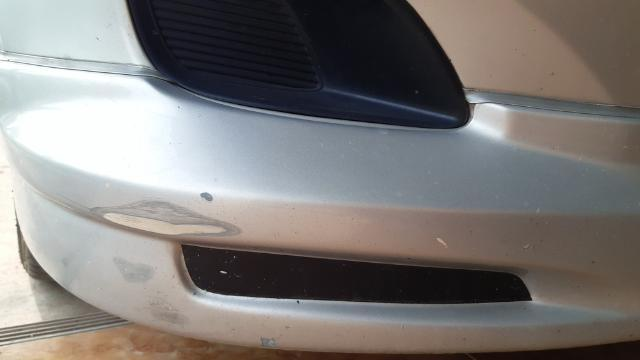scratch: (84, 188, 242, 242), (111, 255, 186, 325)
